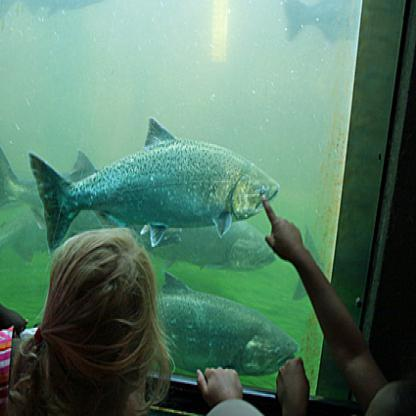fish: (26, 117, 296, 252), (66, 273, 299, 386)
